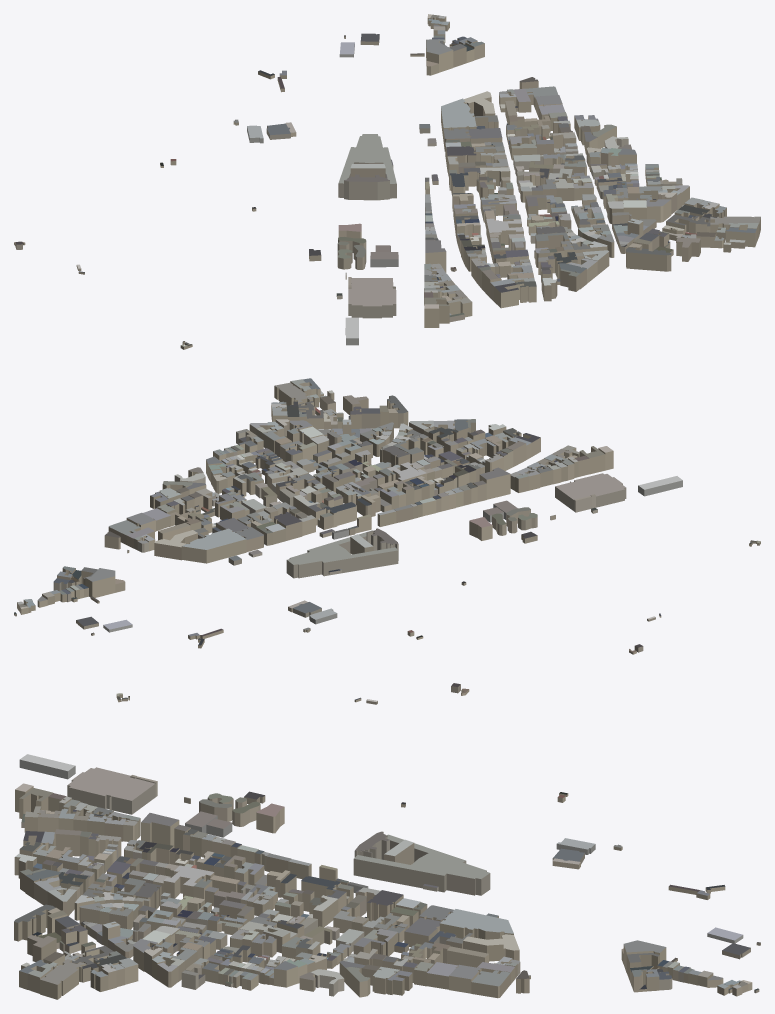
3 renders of one model, top to bottom at view 1: azimuth 30°, elevation 25°; view 2: azimuth 150°, elevation 25°; view 3: azimuth 270°, elevation 25°, orthographic. The views are drawn at different scales.
Parts seen in each view (by area): view 1: tuile; view 2: tuile; view 3: tuile.
Boxes of the visible parts, <box> form: tuile: <box>14,14,760,349</box>; tuile: <box>14,378,760,654</box>; tuile: <box>14,683,760,999</box>.
Bounding box in the file's own units: 1028 × 46.54 × 1015.
